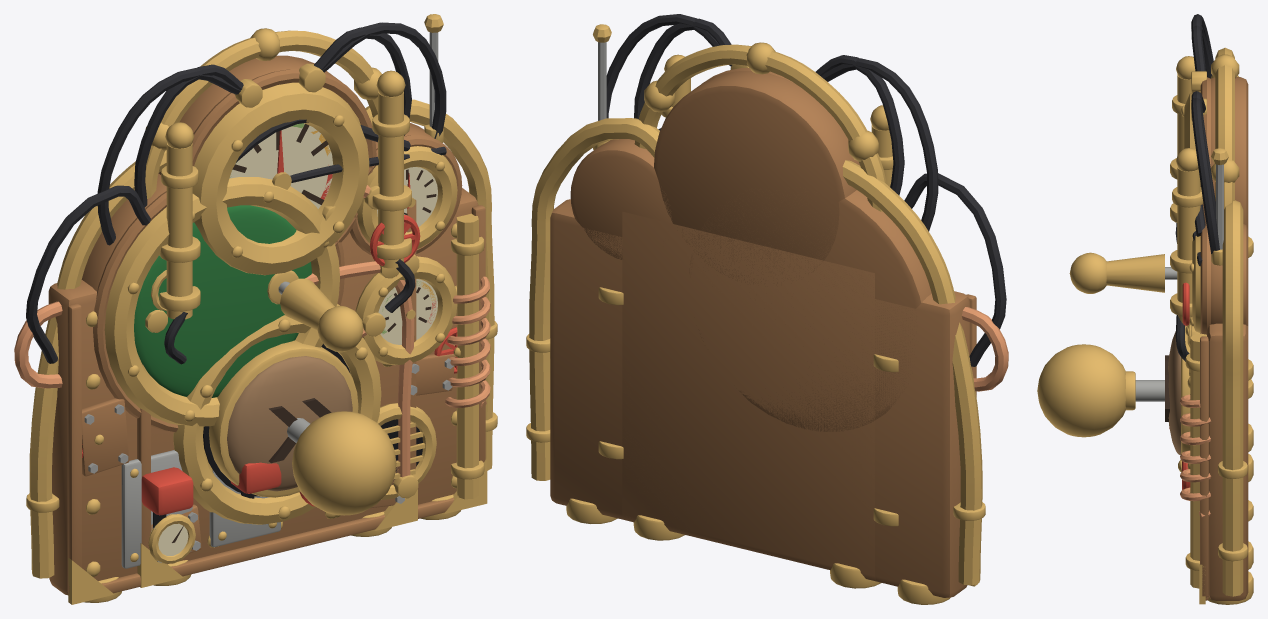
The model's file is control_panel.glb.
3 renders of one model, left to right at view 1: azimuth 30°, elevation 25°; view 2: azimuth 150°, elevation 25°; view 3: azimuth 270°, elevation 25°, orthographic. The views are drawn at different scales.
Parts seen in each view (by area): view 1: Gauges, Helm, Plunger, Engine, Stick, Lever; view 2: Helm, Gauges, Engine; view 3: Gauges, Helm, Stick, Lever, Plunger, Engine.
Part boxes in pixels (bbox=[...]): Gauges: bbox=[14, 14, 497, 604]; Helm: bbox=[134, 22, 460, 587]; Plunger: bbox=[209, 340, 358, 497]; Engine: bbox=[82, 27, 420, 562]; Stick: bbox=[287, 411, 396, 515]; Lever: bbox=[267, 270, 363, 352]; Helm: bbox=[606, 14, 904, 588]; Gauges: bbox=[526, 24, 1008, 604]; Engine: bbox=[598, 18, 938, 459]; Gauges: bbox=[1169, 148, 1253, 604]; Helm: bbox=[1170, 25, 1253, 569]; Stick: bbox=[1037, 344, 1164, 437]; Lever: bbox=[1069, 252, 1177, 293]; Plunger: bbox=[1165, 325, 1190, 454]; Engine: bbox=[1182, 14, 1253, 521].
Size of the model in its own units: 3.86 by 3.97 by 1.67.
